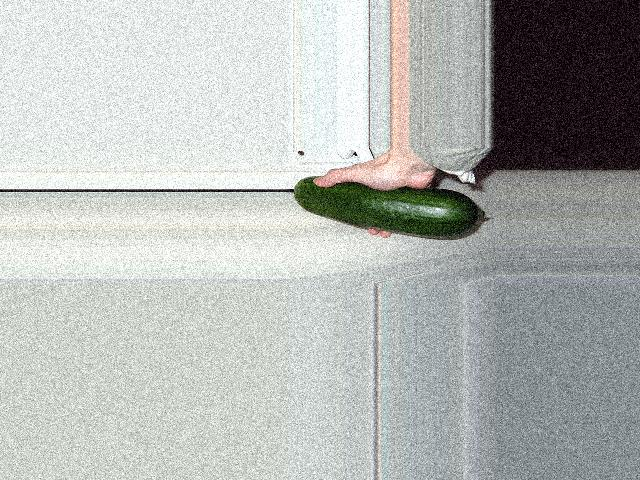cucumber: (293, 177, 484, 240)
